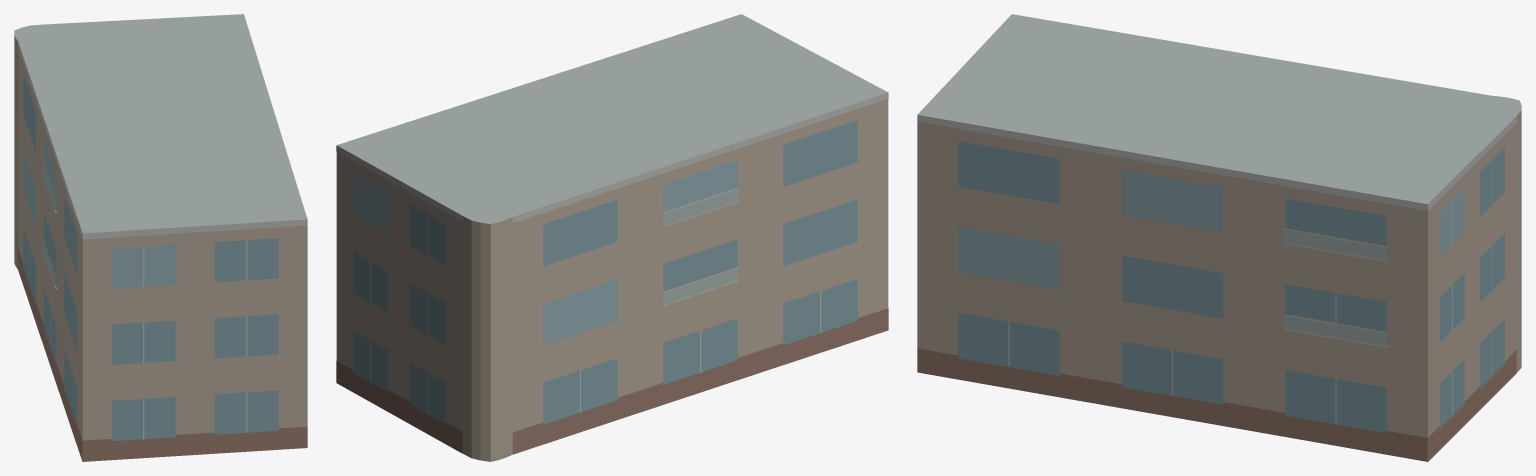
File: survey-upis-32668711.glb
3 views of the same model, side by side, from view 1: azimuth 30°, elevation 25°; view 2: azimuth 150°, elevation 25°; view 3: azimuth 270°, elevation 25° (orthographic). The views are drawn at different scales.
Parts seen in each view (by area): view 1: survey-upis-32668711.tmp; view 2: survey-upis-32668711.tmp; view 3: survey-upis-32668711.tmp.
Boxes of the visible parts, x1=… form: survey-upis-32668711.tmp: x1=14, y1=14, x2=307, y2=461; survey-upis-32668711.tmp: x1=336, y1=14, x2=888, y2=461; survey-upis-32668711.tmp: x1=917, y1=14, x2=1521, y2=461.
Size of the model in its own units: 14.5 by 9.15 by 19.46.
